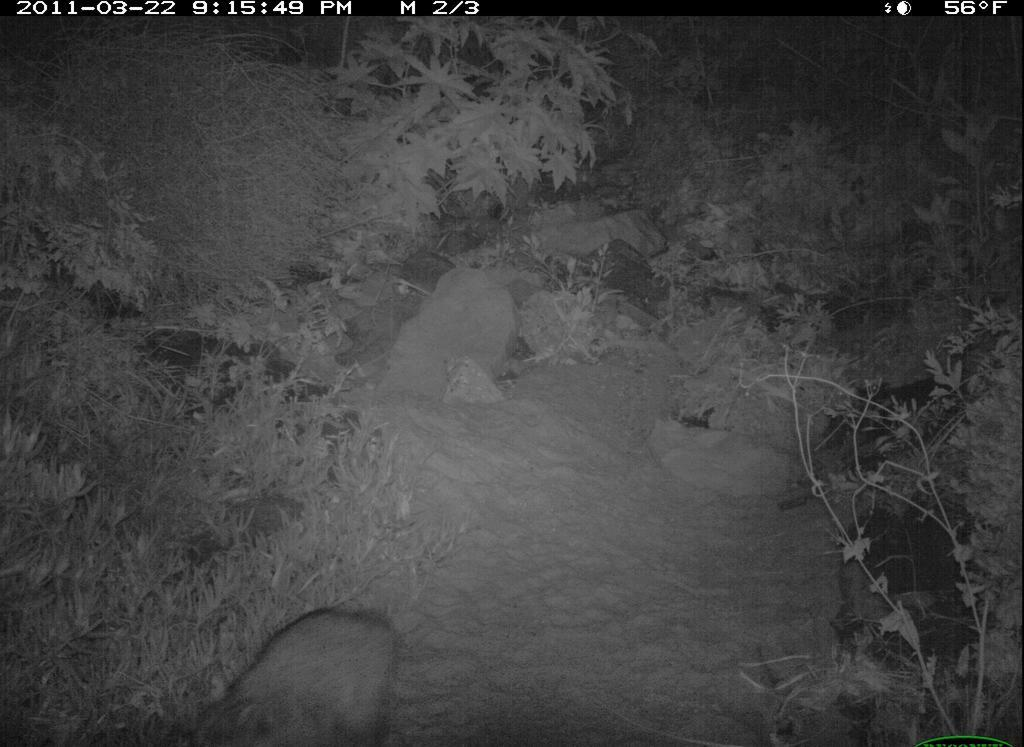raccoon: (185, 601, 411, 747)
